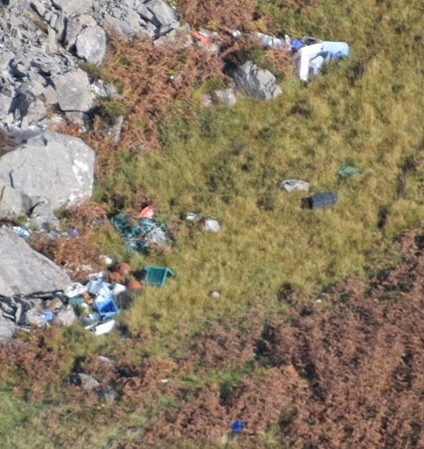scattered_barrel: (255, 147, 372, 226)
together_barrel: (56, 201, 225, 337), (188, 21, 352, 89)
white_in_green: (210, 400, 266, 449)
